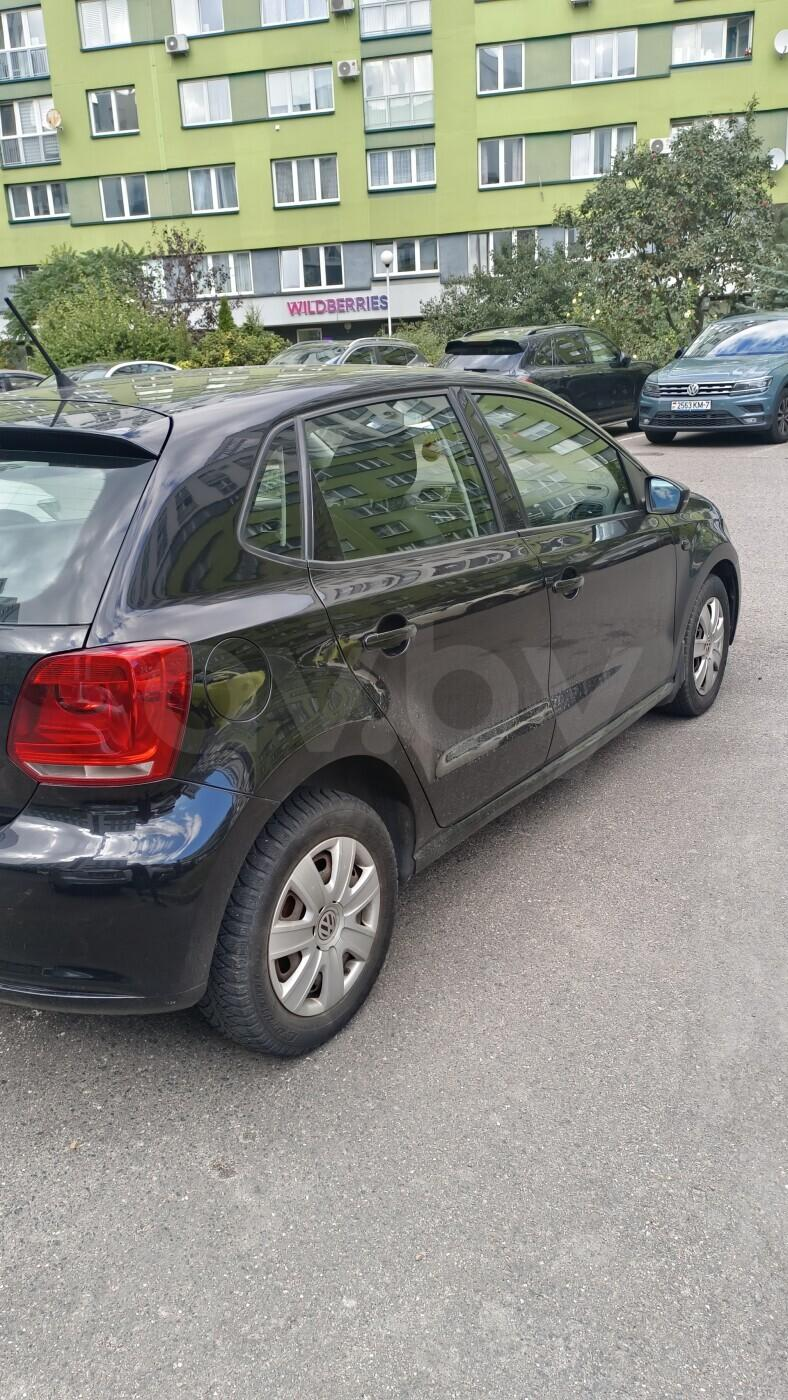Polo_2009-2015: (0, 338, 775, 1064)
